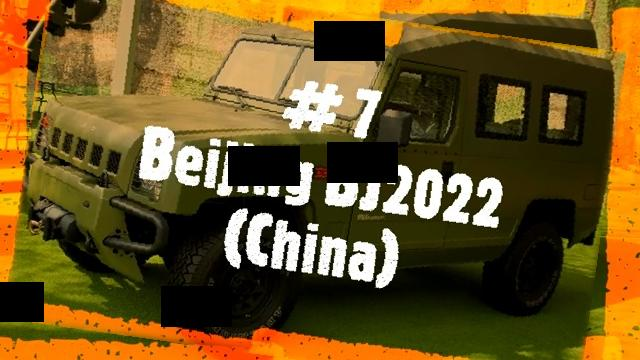MIL_HMMWV: (12, 0, 615, 360)
